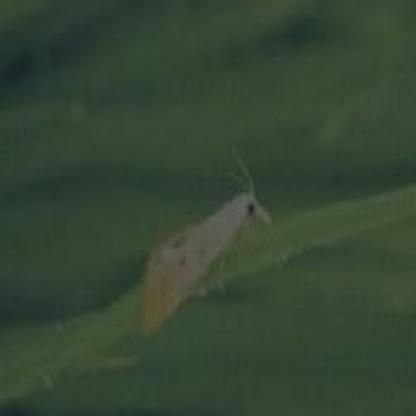stem-borer: (136, 148, 275, 344)
